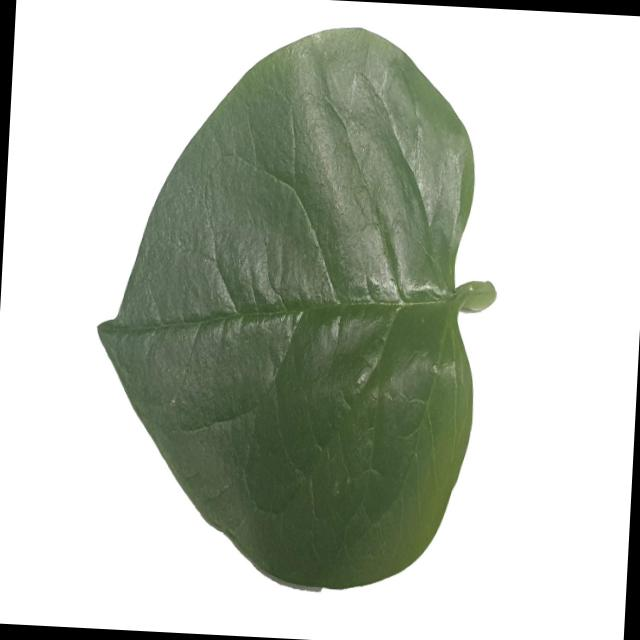Medicinal-Basale: (84, 13, 512, 598)
